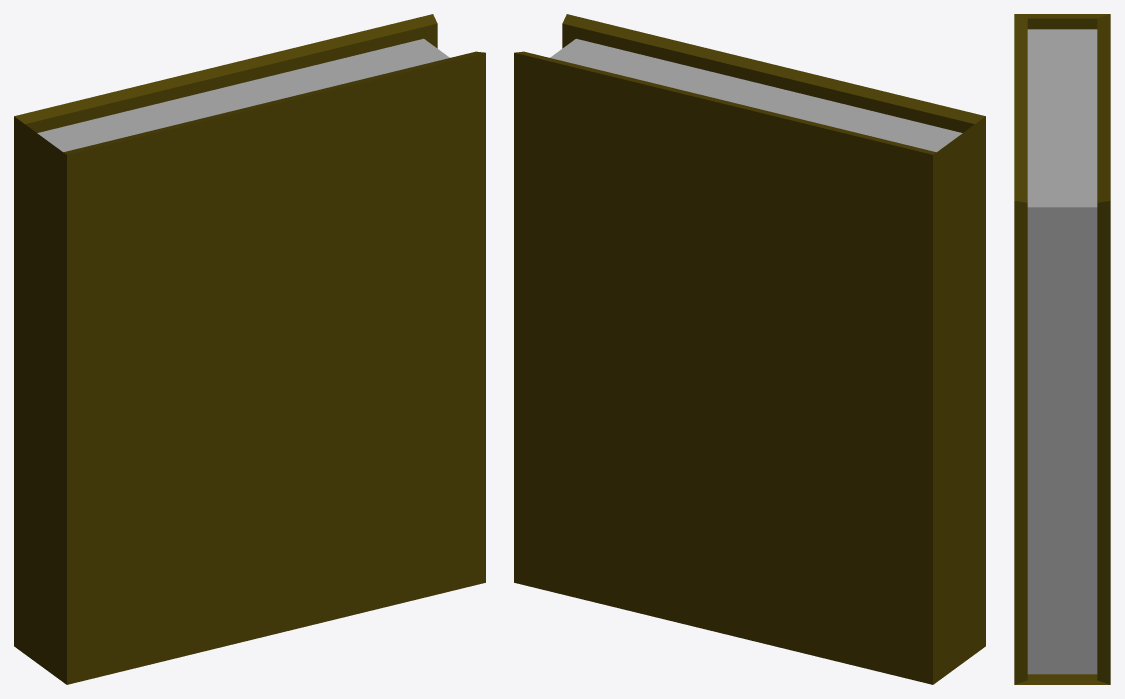
The model's file is Book_Brown_Blockout.fbx.
3 views of the same model, side by side, from view 1: azimuth 30°, elevation 25°; view 2: azimuth 150°, elevation 25°; view 3: azimuth 270°, elevation 25° (orthographic). The views are drawn at different scales.
Parts seen in each view (by area): view 1: Book_Brown_Blockout; view 2: Book_Brown_Blockout; view 3: Book_Brown_Blockout.
Part boxes in pixels (left/top/right/bottom): Book_Brown_Blockout: left=14, top=14, right=485, bottom=684; Book_Brown_Blockout: left=514, top=14, right=985, bottom=684; Book_Brown_Blockout: left=1014, top=14, right=1110, bottom=684.
Bounding box in the file's own units: 56.92 × 68.79 × 12.43.
